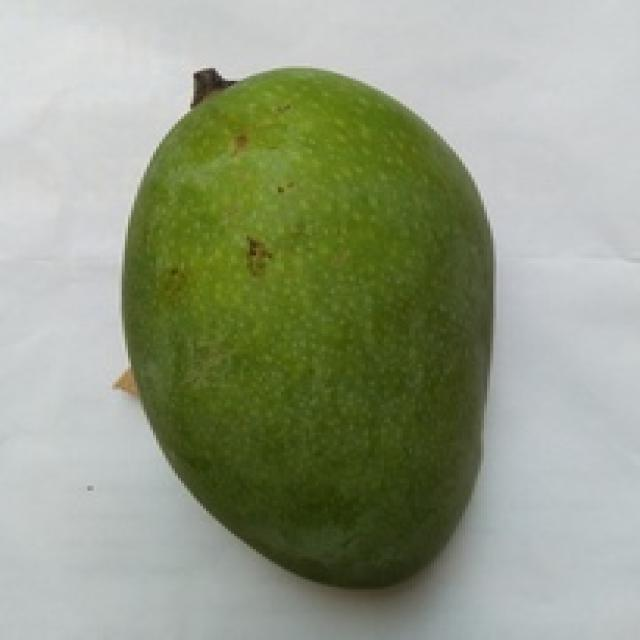Mango: (125, 68, 490, 584)
